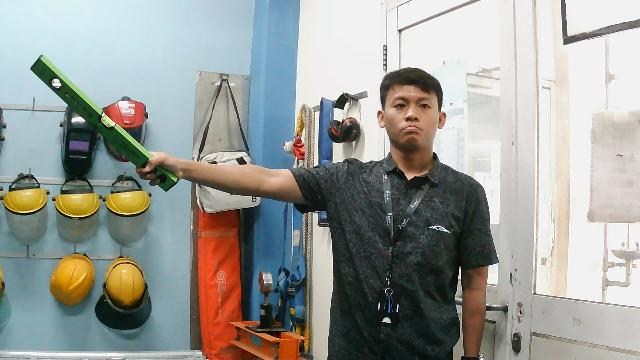water_pass: (25, 49, 183, 194)
